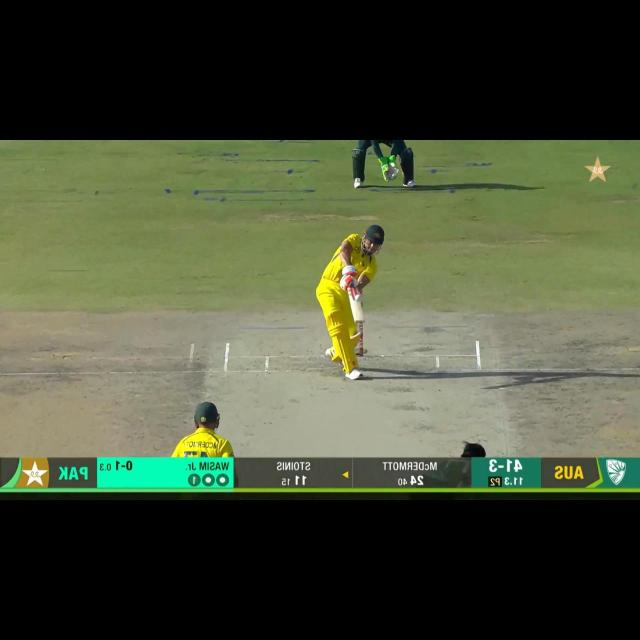bat: (347, 286, 367, 326)
toe: (353, 316, 366, 325)
